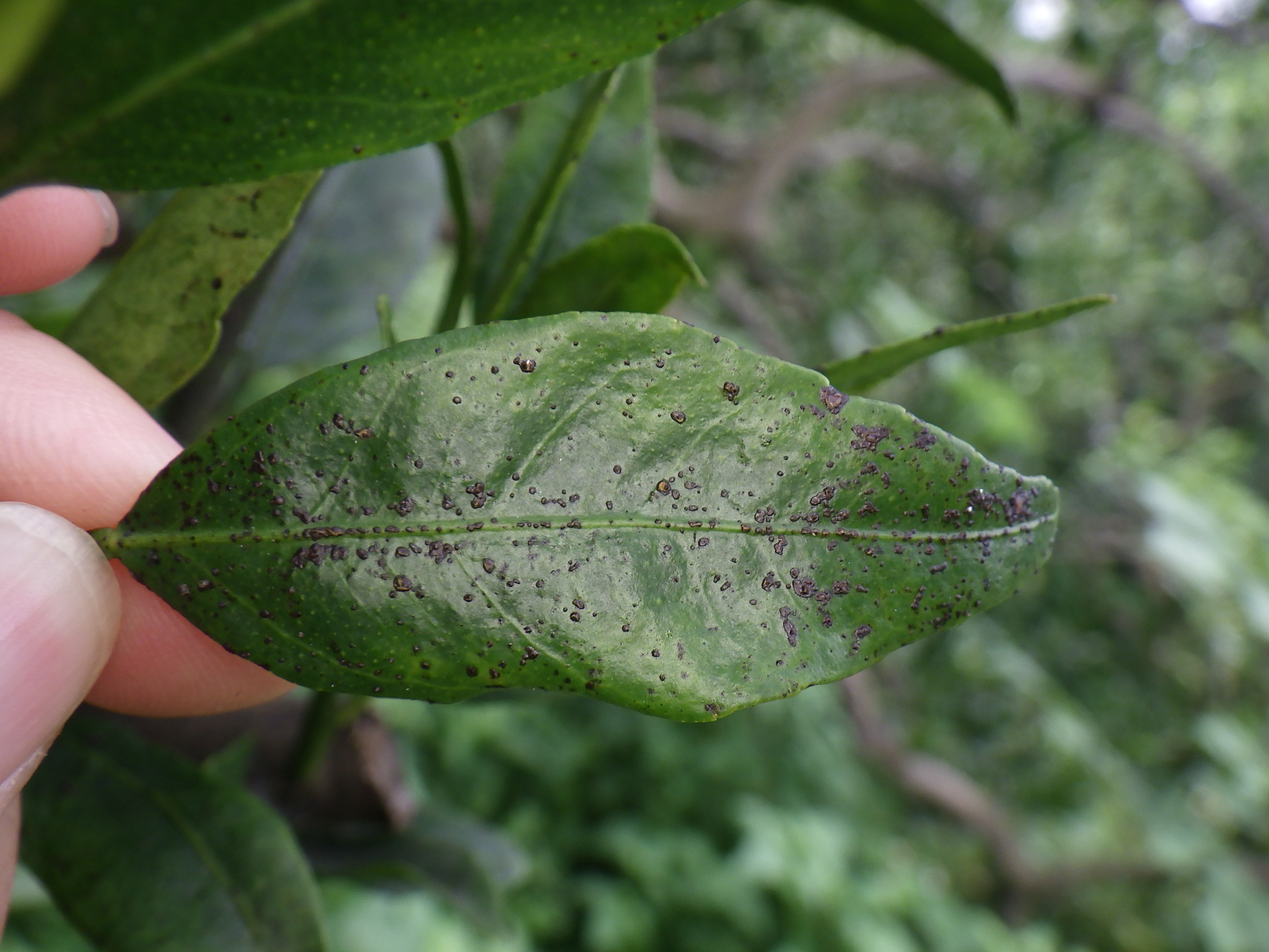Black_Spot: (95, 312, 1060, 721)
